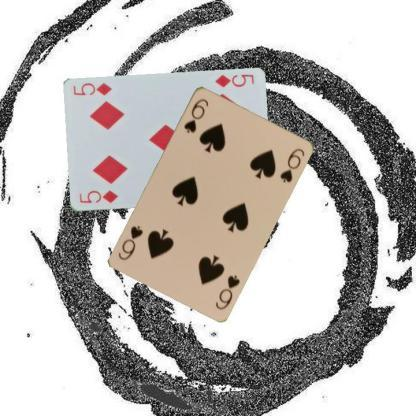5d: (211, 72, 256, 90), (76, 188, 119, 204)
6s: (212, 272, 242, 311), (181, 95, 210, 134)
